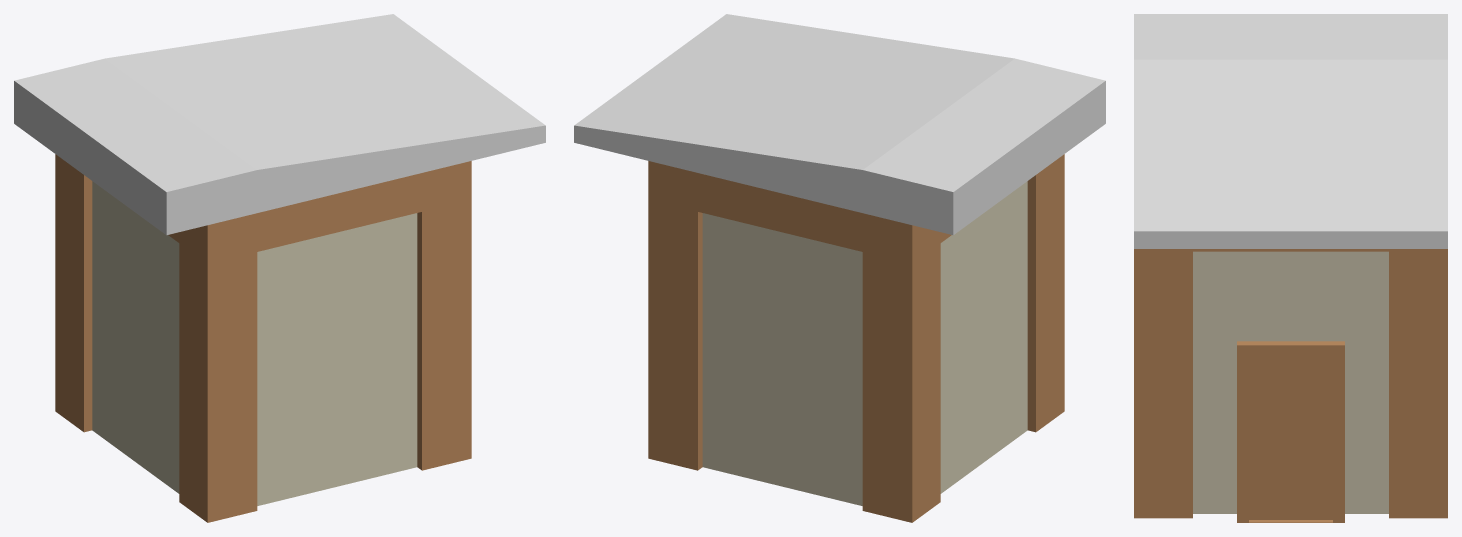
File: Caseta1.fbx
3 renders of one model, left to right at view 1: azimuth 30°, elevation 25°; view 2: azimuth 150°, elevation 25°; view 3: azimuth 270°, elevation 25°, orthographic. The views are drawn at different scales.
Parts seen in each view (by area): view 1: Cube.010; view 2: Cube.010; view 3: Cube.010.
Part boxes in pixels (bbox=[...]): Cube.010: bbox=[14, 14, 545, 522]; Cube.010: bbox=[574, 14, 1105, 522]; Cube.010: bbox=[1134, 14, 1447, 522].
Bounding box in the file's own units: 920 × 801 × 640.
